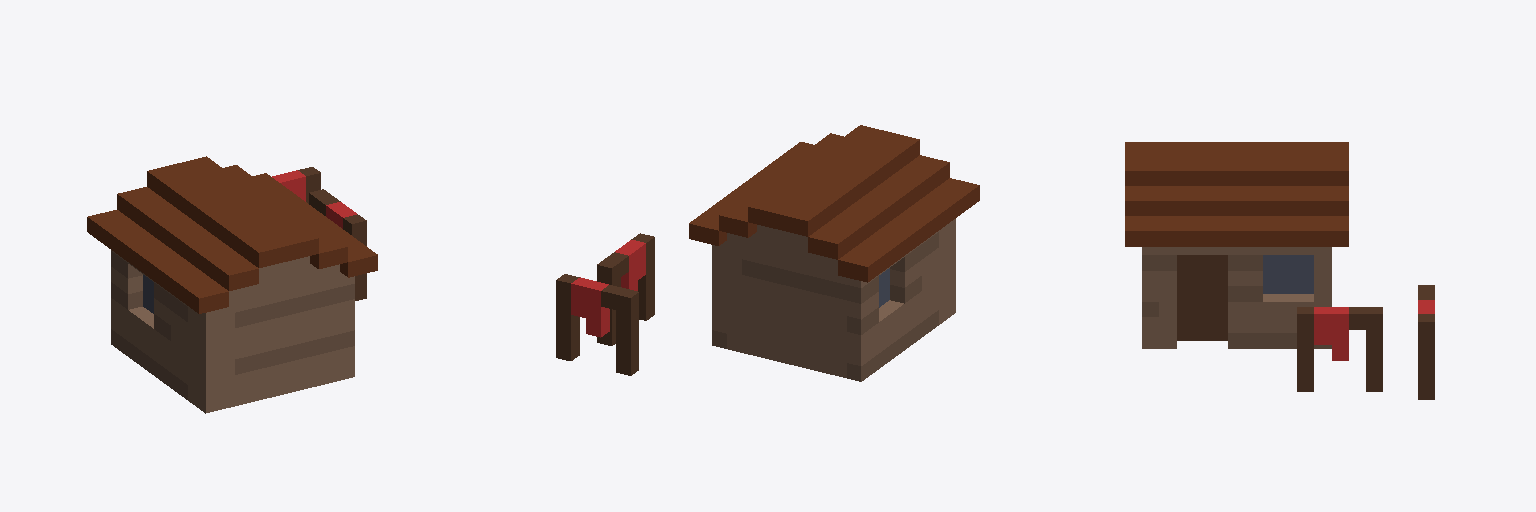
The picture shows the model from 3 angles: view 1: azimuth 30°, elevation 25°; view 2: azimuth 150°, elevation 25°; view 3: azimuth 270°, elevation 25°; orthographic projection.
Visible parts, largest first — view 1: object 1; view 2: object 1; view 3: object 1.
Part boxes in pixels (left/top/right/bottom): object 1: left=87, top=156, right=377, bottom=413; object 1: left=556, top=125, right=979, bottom=381; object 1: left=1125, top=142, right=1434, bottom=399.
Size of the model in its own units: 1.8 by 1 by 1.8.
1 materials, 1 textured.